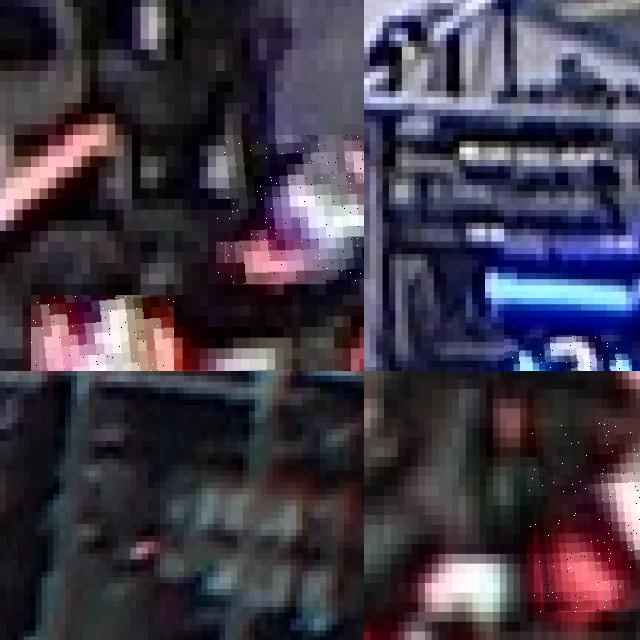B2: (504, 335, 632, 371)
R4: (216, 134, 364, 284), (527, 418, 640, 612), (31, 295, 174, 371)
